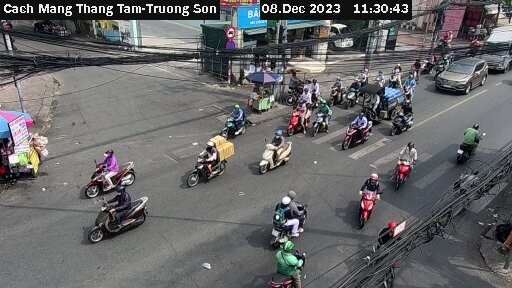car: (436, 53, 490, 102)
motorbike: (89, 200, 157, 254), (79, 156, 151, 202), (251, 191, 313, 236), (210, 103, 266, 151), (254, 247, 319, 288), (186, 142, 233, 191), (346, 172, 387, 226), (388, 147, 429, 189), (255, 129, 298, 169), (455, 125, 490, 170), (339, 114, 375, 152), (313, 107, 345, 137), (393, 105, 420, 136), (285, 108, 313, 134), (323, 77, 344, 102), (343, 80, 360, 104), (386, 68, 401, 85)
truck: (478, 23, 512, 73)
